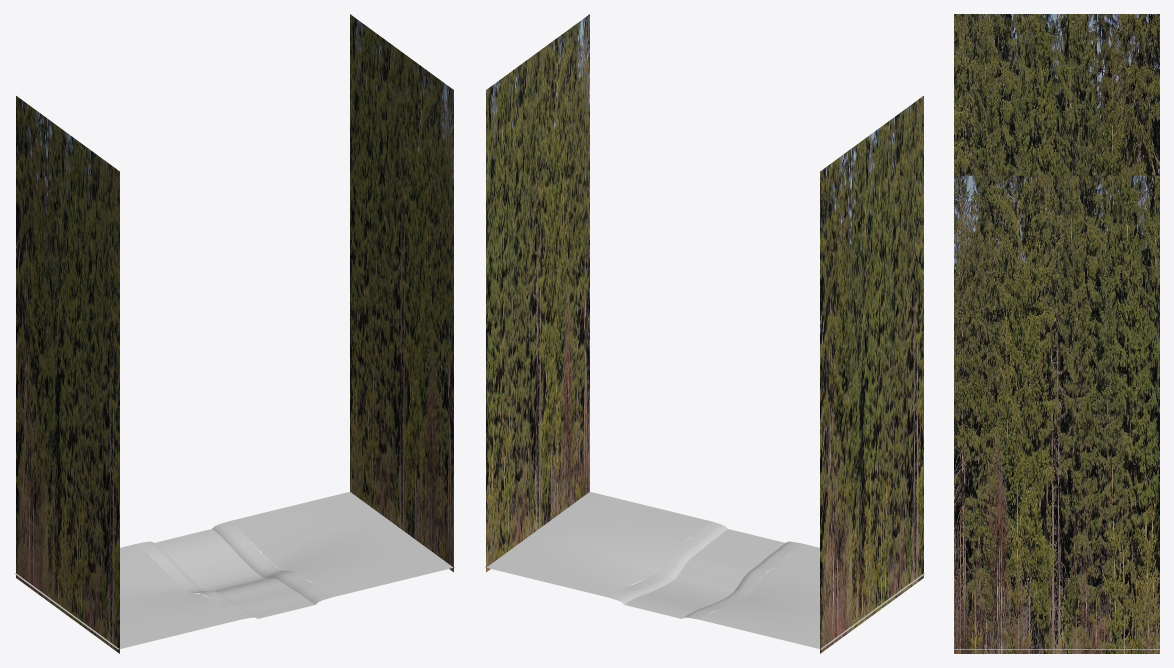
Rendered from kuoppa_seinät.FBX.
3 views of the same model, side by side, from view 1: azimuth 30°, elevation 25°; view 2: azimuth 150°, elevation 25°; view 3: azimuth 270°, elevation 25° (orthographic).
Visible parts, largest first — view 1: Plane022, Plane023, Plane024, kuoppa001; view 2: Plane022, Plane023, Plane024, kuoppa001; view 3: Plane023, Plane022.
Boxes of the visible parts, x1,y1,x2,y2 form: Plane022: [16, 96, 119, 653]; Plane023: [350, 14, 453, 572]; Plane024: [15, 492, 455, 649]; kuoppa001: [137, 521, 332, 619]; Plane022: [820, 96, 923, 653]; Plane023: [486, 14, 589, 572]; Plane024: [484, 492, 924, 649]; kuoppa001: [607, 521, 802, 619]; Plane023: [954, 175, 1159, 653]; Plane022: [954, 14, 1159, 175].
Size of the model in its own units: 525 by 732 by 280.
